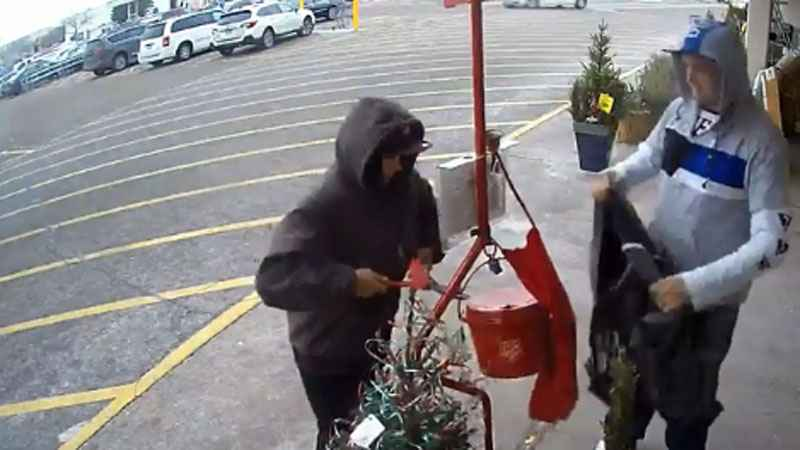Person: (575, 21, 791, 446), (255, 95, 453, 430)
